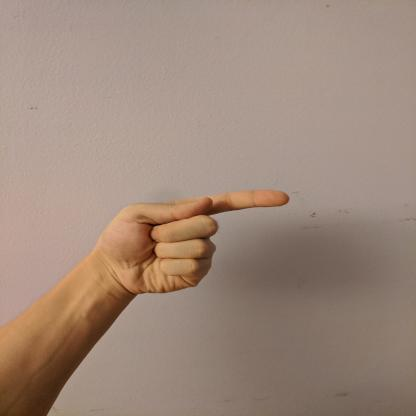G: (91, 186, 292, 296)
